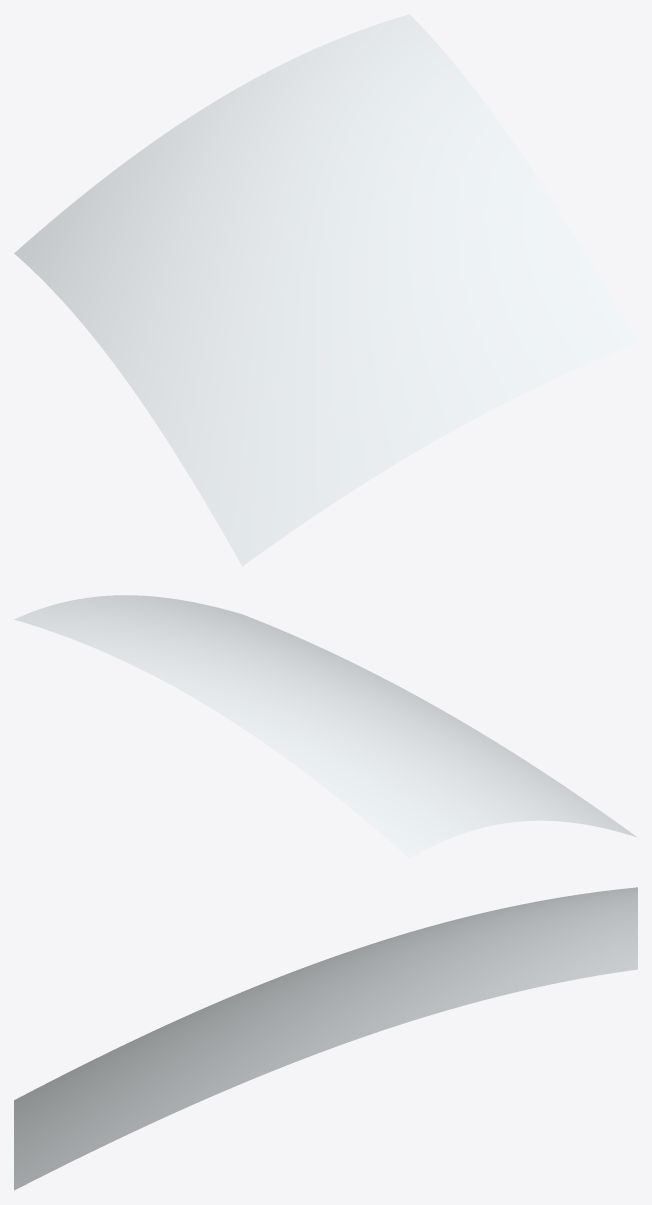
File: alpine-7-7.glb
The picture shows the model from 3 angles, top to bottom: view 1: azimuth 30°, elevation 25°; view 2: azimuth 150°, elevation 25°; view 3: azimuth 270°, elevation 25°; orthographic projection. The views are drawn at different scales.
Visible parts, largest first — view 1: alpine-7-7; view 2: alpine-7-7; view 3: alpine-7-7.
Part boxes in pixels (x1,y1,x2,y2): alpine-7-7: (14,14,637,566); alpine-7-7: (14,595,637,858); alpine-7-7: (14,887,637,1190).
Size of the model in its own units: 256 by 179 by 256.
1 material, 1 textured.
